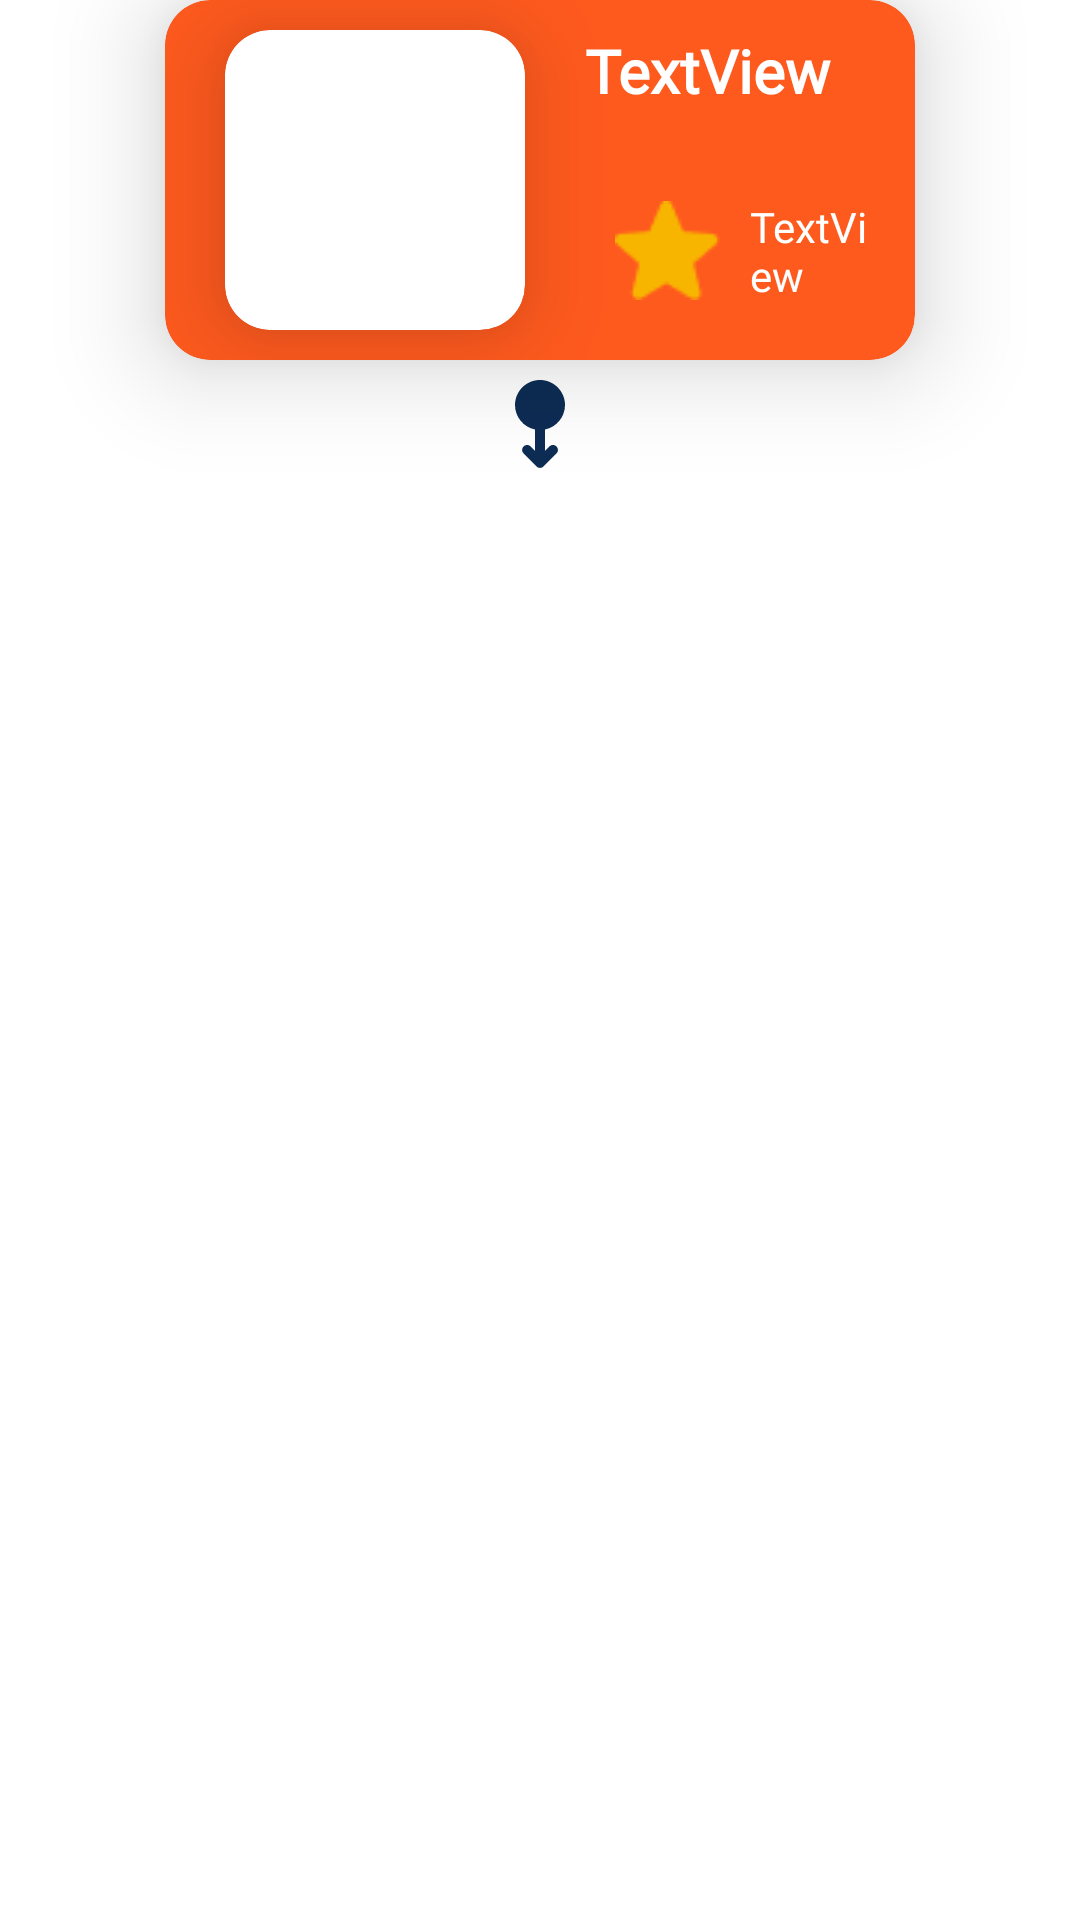

Where icons sit on this 1080×1920 app screen, as (x1, y1, x2, y2):
estrella: (615, 201, 718, 300)
swipe down: (515, 380, 565, 468)
